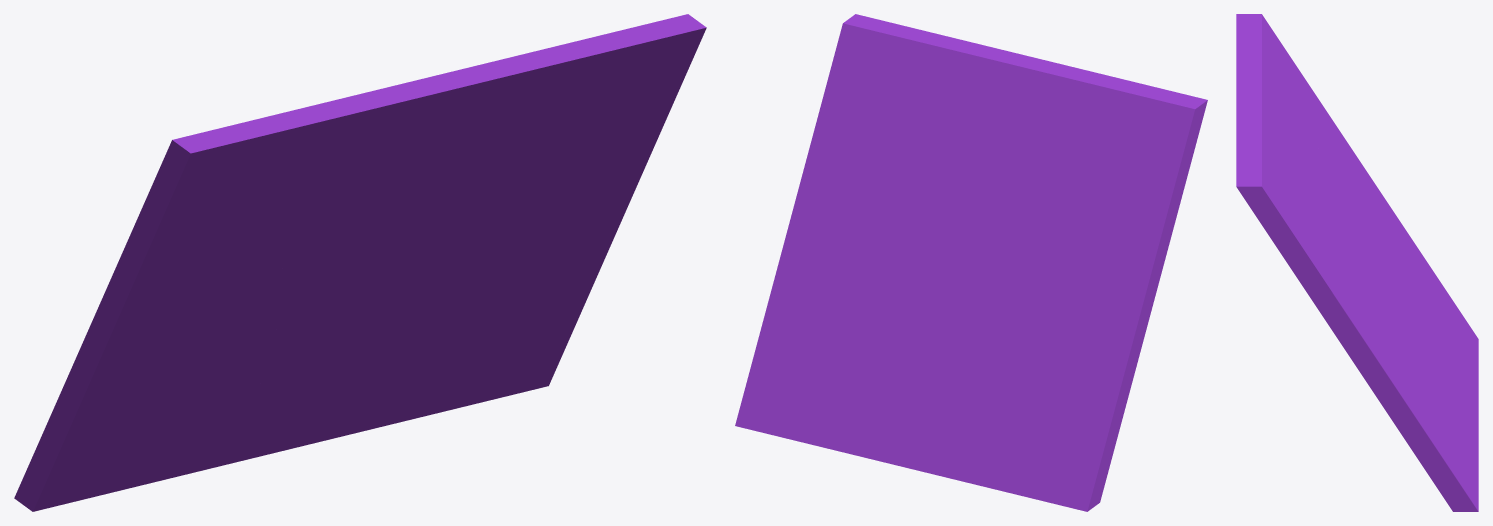
The model's file is Window_22_chunks.fbx.
The picture shows the model from 3 angles, left to right: view 1: azimuth 30°, elevation 25°; view 2: azimuth 150°, elevation 25°; view 3: azimuth 270°, elevation 25°; orthographic projection. The views are drawn at different scales.
Visible parts, largest first — view 1: Window_22_2, Window_22_16, Window_22_30, Window_22_11, Window_22_14, Window_22_29, Window_22_13, Window_22_3, Window_22_33, Window_22_31, Window_22_19, Window_22_1 (+16 smaller); view 2: Window_22_2, Window_22_33, Window_22_30, Window_22_3, Window_22_14, Window_22_20, Window_22_1, Window_22_19, Window_22_13, Window_22_16, Window_22_11, Window_22_9 (+14 smaller); view 3: Window_22_33, Window_22_2, Window_22_16, Window_22_14, Window_22_30, Window_22_26, Window_22_9, Window_22_3, Window_22_20, Window_22_1, Window_22_19, Window_22_29 (+13 smaller).
Part boxes in pixels (x1,y1,x2,y2): Window_22_2: [14, 303, 284, 511]; Window_22_16: [318, 53, 559, 161]; Window_22_30: [390, 43, 596, 253]; Window_22_11: [91, 239, 280, 356]; Window_22_14: [182, 107, 384, 218]; Window_22_29: [500, 164, 646, 322]; Window_22_13: [115, 137, 229, 281]; Window_22_3: [261, 288, 380, 388]; Window_22_33: [568, 14, 706, 109]; Window_22_31: [423, 162, 647, 252]; Window_22_19: [82, 417, 293, 499]; Window_22_1: [245, 209, 429, 314]; Window_22_2: [992, 279, 1146, 511]; Window_22_33: [808, 14, 930, 160]; Window_22_30: [881, 32, 967, 238]; Window_22_3: [824, 257, 990, 396]; Window_22_14: [1033, 78, 1204, 197]; Window_22_20: [788, 378, 936, 468]; Window_22_1: [961, 152, 1052, 285]; Window_22_19: [909, 421, 1073, 508]; Window_22_13: [1113, 99, 1207, 254]; Window_22_16: [953, 38, 1116, 121]; Window_22_11: [1052, 217, 1169, 327]; Window_22_9: [779, 152, 867, 297]; Window_22_33: [1236, 146, 1334, 300]; Window_22_2: [1368, 181, 1478, 345]; Window_22_16: [1236, 58, 1289, 154]; Window_22_14: [1236, 15, 1324, 168]; Window_22_30: [1236, 132, 1358, 263]; Window_22_26: [1373, 377, 1448, 474]; Window_22_9: [1326, 290, 1402, 377]; Window_22_3: [1364, 245, 1452, 435]; Window_22_20: [1431, 361, 1478, 485]; Window_22_1: [1312, 164, 1368, 253]; Window_22_19: [1442, 326, 1478, 425]; Window_22_29: [1319, 309, 1416, 405].
Bounding box in the file's own units: 1059 × 930 × 628.
